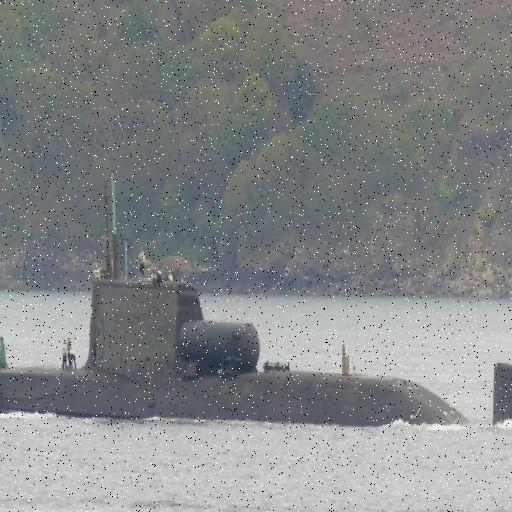submarine: (1, 276, 512, 425)
